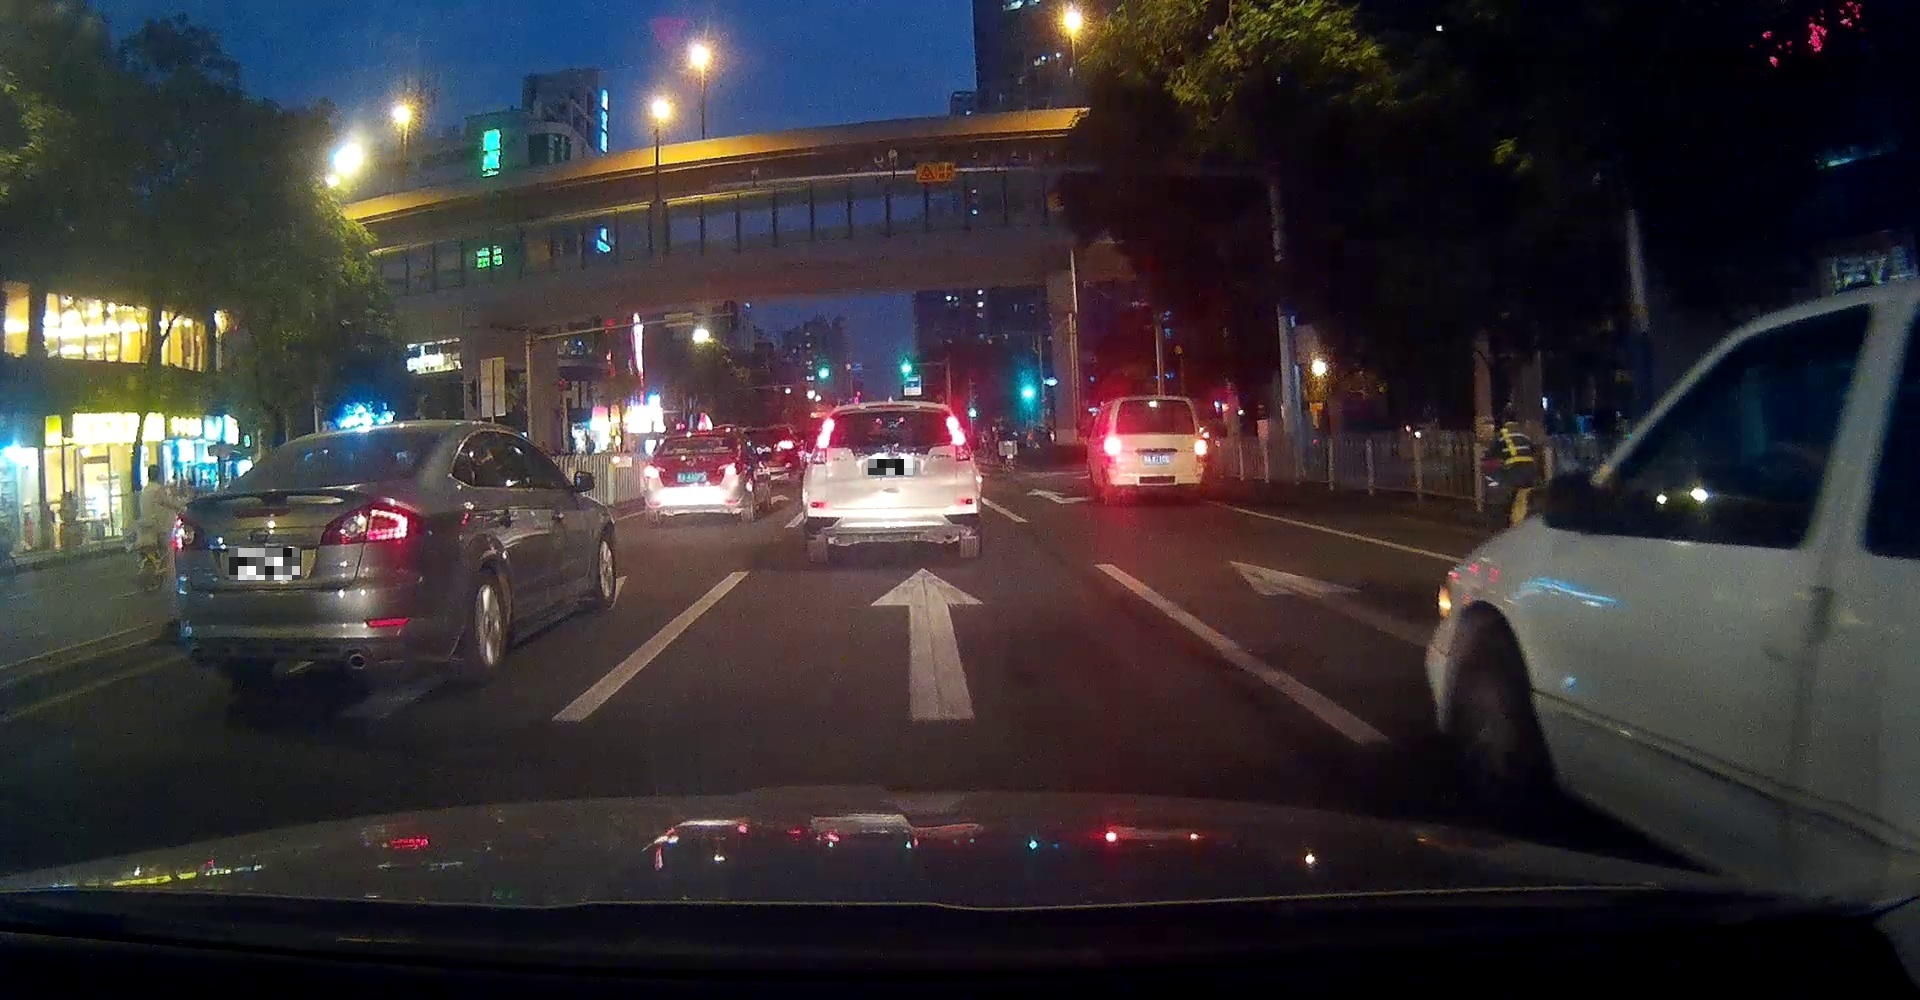L_light: (171, 513, 211, 551), (809, 418, 834, 464), (1103, 437, 1121, 456)
R_light: (317, 497, 429, 546), (946, 416, 971, 462), (1194, 439, 1208, 456)
T_light: (326, 442, 368, 449), (865, 404, 914, 409), (1147, 398, 1166, 404)
night-no: (171, 420, 448, 688), (803, 401, 983, 563), (1103, 395, 1208, 505)
plate_1: (229, 548, 300, 580)
plate_2: (869, 459, 916, 475)
